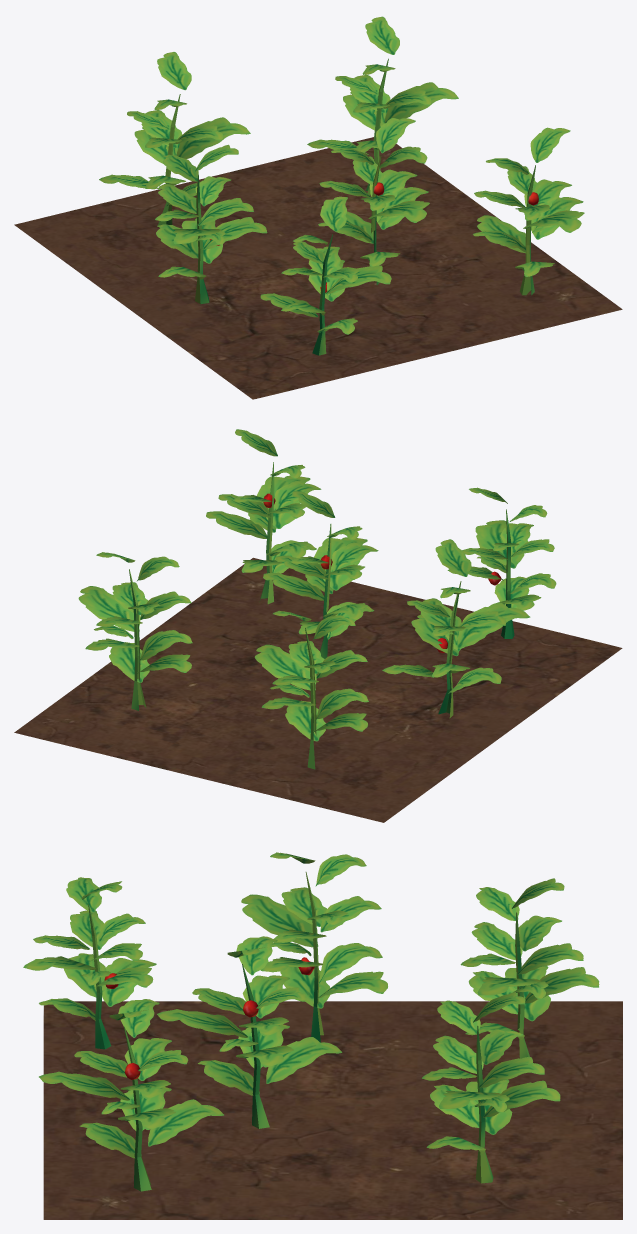
The model's file is ARC0710091.fbx.
The picture shows the model from 3 angles, top to bottom: view 1: azimuth 30°, elevation 25°; view 2: azimuth 150°, elevation 25°; view 3: azimuth 270°, elevation 25°; orthographic projection. The views are drawn at different scales.
Parts seen in each view (by area): view 1: smARC0710091; view 2: smARC0710091; view 3: smARC0710091.
Boxes of the visible parts, left/top/right/bottom form: smARC0710091: left=14, top=16, right=622, bottom=399; smARC0710091: left=14, top=429, right=622, bottom=822; smARC0710091: left=23, top=852, right=622, bottom=1219.
Size of the model in its own units: 227 by 90.36 by 258.
Materials: 1 (1 with a texture image).
